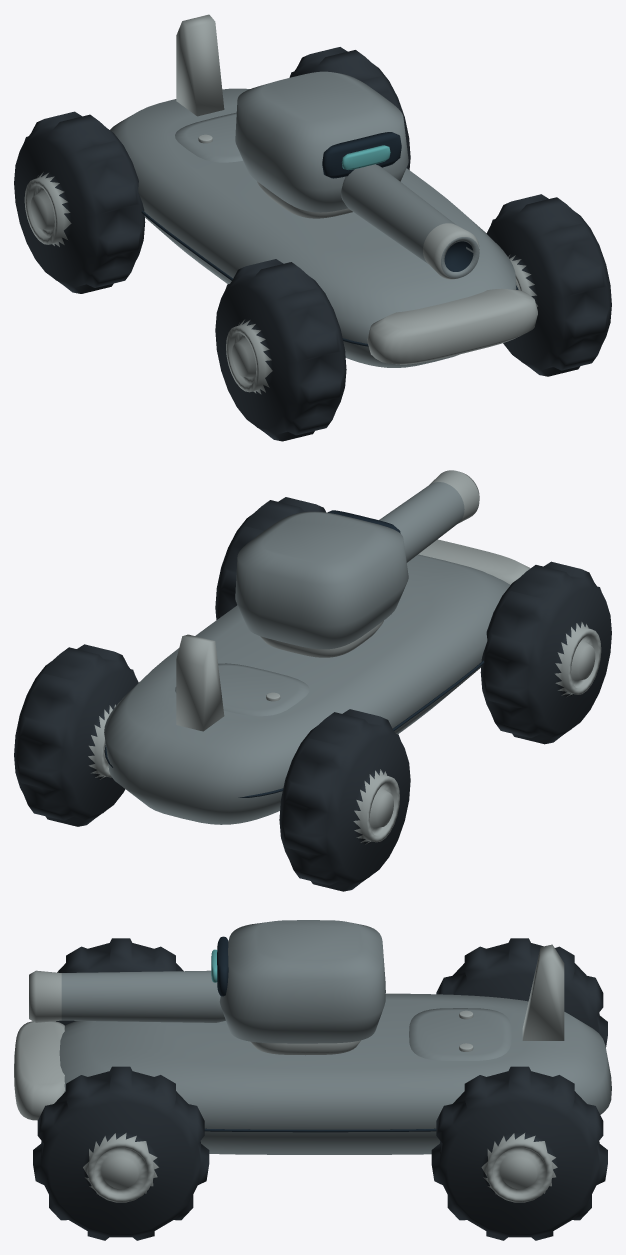
The model's file is TOY_SCOUT.hi.glb.
The picture shows the model from 3 angles, top to bottom: view 1: azimuth 30°, elevation 25°; view 2: azimuth 150°, elevation 25°; view 3: azimuth 270°, elevation 25°; orthographic projection.
Visible parts, largest first — view 1: Body, WheelsFront, WheelsRear, TurretYaw, BarrelRecoil; view 2: Body, WheelsRear, WheelsFront, TurretYaw, BarrelRecoil; view 3: Body, WheelsRear, WheelsFront, TurretYaw, BarrelRecoil.
Boxes of the visible parts, left/top/right/bottom form: Body: left=110, top=14, right=537, bottom=367; WheelsFront: left=215, top=194, right=611, bottom=441; WheelsRear: left=14, top=47, right=410, bottom=293; TurretYaw: left=235, top=71, right=408, bottom=218; BarrelRecoil: left=341, top=164, right=479, bottom=279; Body: left=104, top=539, right=530, bottom=824; WheelsRear: left=14, top=644, right=410, bottom=891; WheelsFront: left=215, top=497, right=611, bottom=744; TurretYaw: left=235, top=510, right=408, bottom=657; BarrelRecoil: left=379, top=470, right=479, bottom=562; Body: left=14, top=944, right=611, bottom=1154; WheelsRear: left=431, top=938, right=607, bottom=1240; WheelsFront: left=33, top=938, right=209, bottom=1240; TurretYaw: left=211, top=920, right=385, bottom=1055; BarrelRecoil: left=29, top=970, right=225, bottom=1022.
Bounding box in the file's own units: 0.665 × 0.425 × 1.
